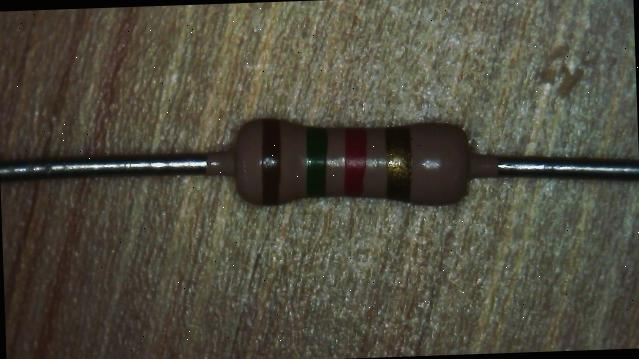brown: (259, 118, 283, 204)
gold: (386, 126, 412, 200)
green: (304, 125, 328, 196)
red: (343, 127, 366, 196)
resistor: (214, 96, 492, 227)
